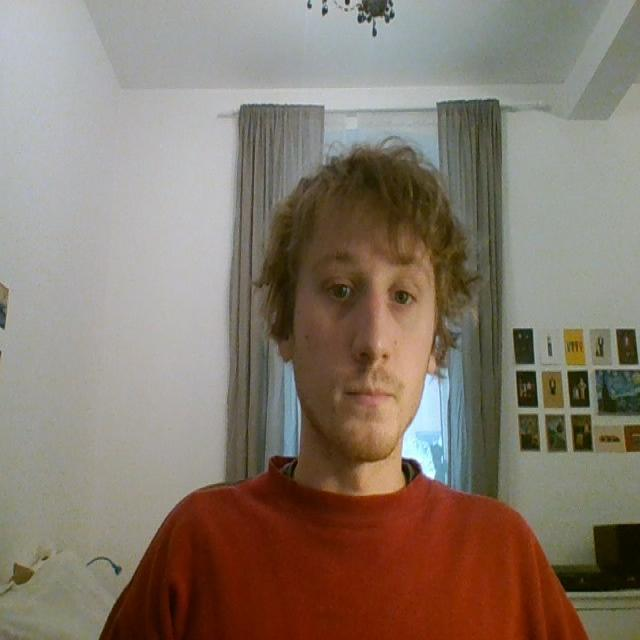eye: (319, 274, 364, 308), (384, 278, 421, 314)
gaze: (395, 289, 409, 305), (334, 284, 347, 298)
